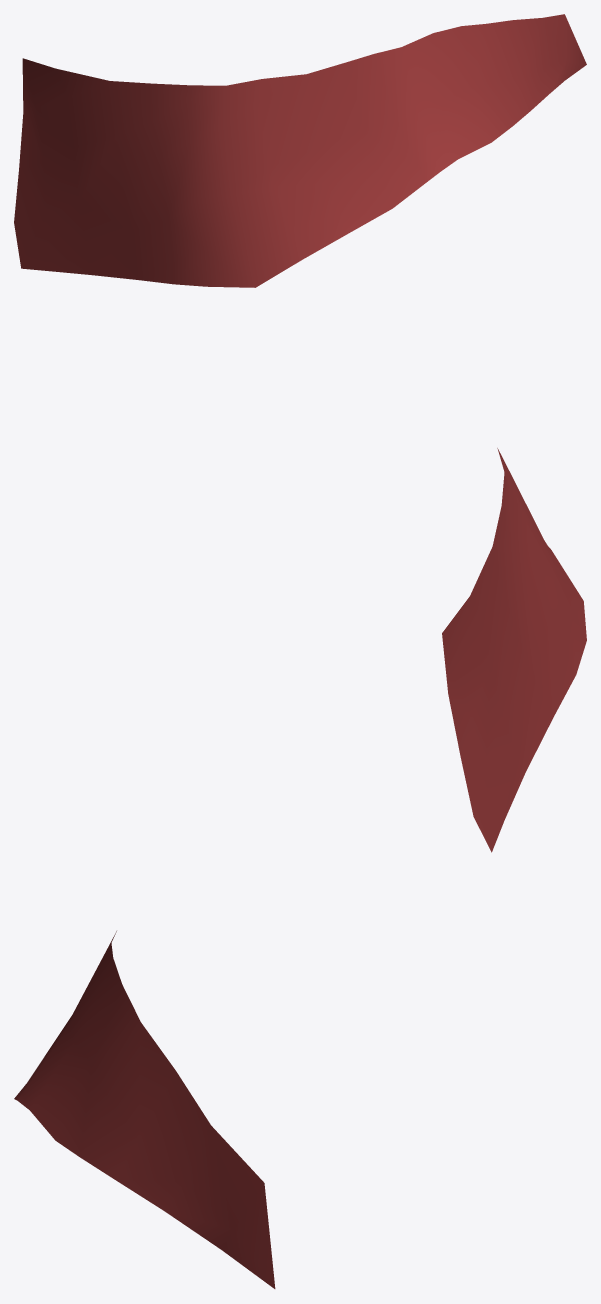
File: inferior-extensor-retinaculum-of-ankle-r.glb
3 views of the same model, one above another, from view 1: azimuth 30°, elevation 25°; view 2: azimuth 150°, elevation 25°; view 3: azimuth 270°, elevation 25° (orthographic). The views are drawn at different scales.
Parts seen in each view (by area): view 1: Inferior extensor retinaculum of ankle.r; view 2: Inferior extensor retinaculum of ankle.r; view 3: Inferior extensor retinaculum of ankle.r.
Part boxes in pixels (<box>): Inferior extensor retinaculum of ankle.r: <box>14,14,586,287</box>; Inferior extensor retinaculum of ankle.r: <box>442,448,586,852</box>; Inferior extensor retinaculum of ankle.r: <box>14,931,275,1288</box>.
Bounding box in the file's own units: 0.0521 × 0.0282 × 0.0364.
